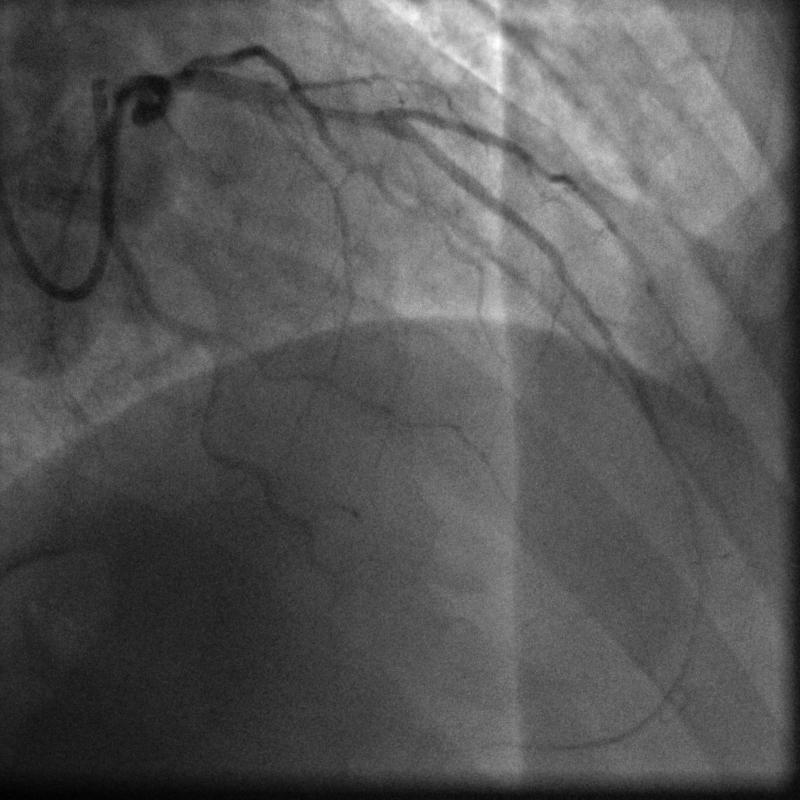Stenosis: (266, 86, 365, 121)
